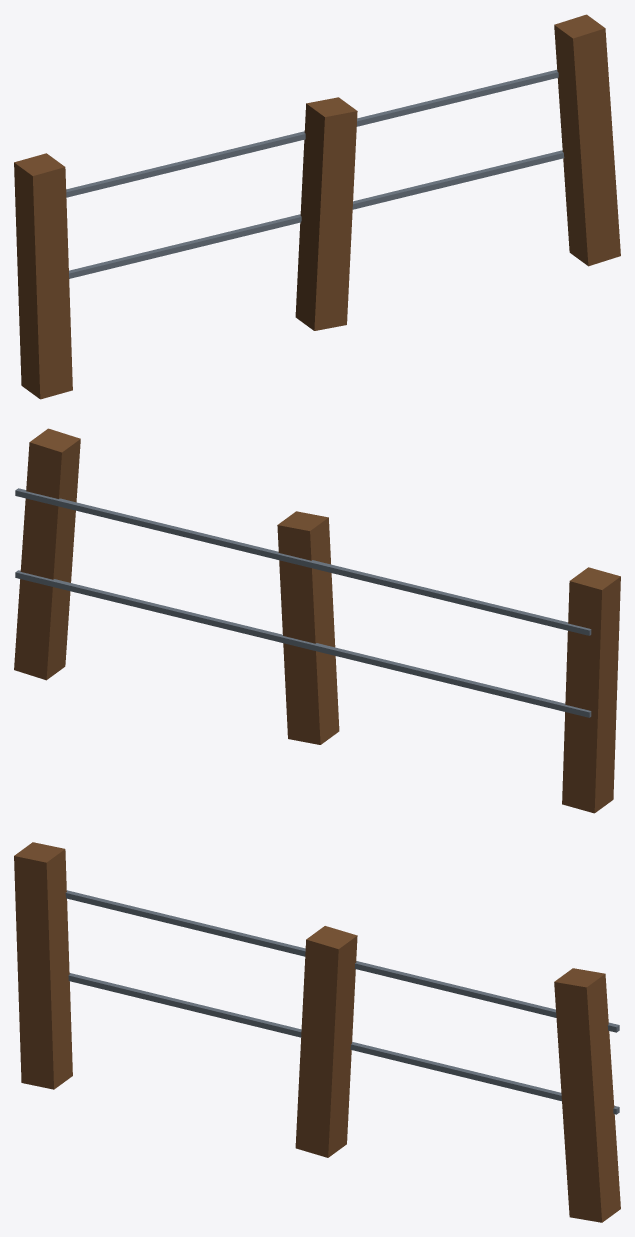
Rendered from cerca_mourao.glb.
3 views of the same model, one above another, from view 1: azimuth 30°, elevation 25°; view 2: azimuth 150°, elevation 25°; view 3: azimuth 330°, elevation 25° (orthographic).
Visible parts, largest first — view 1: corpo; view 2: corpo; view 3: corpo.
Boxes of the visible parts, x1=… form: corpo: x1=14, y1=14, x2=620, y2=399; corpo: x1=14, y1=428, x2=620, y2=813; corpo: x1=14, y1=842, x2=620, y2=1222.
Bounding box in the file's own units: 0.9014 × 0.3427 × 0.055.
